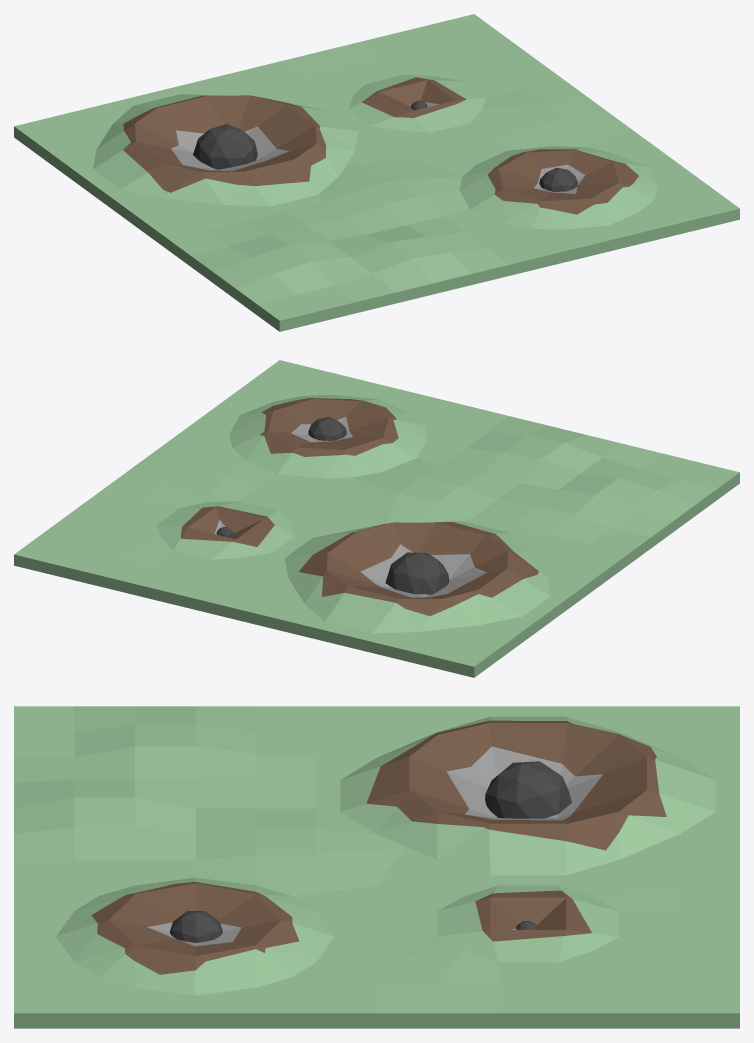
Rendered from Crater II.fbx.
The picture shows the model from 3 angles, top to bottom: view 1: azimuth 30°, elevation 25°; view 2: azimuth 150°, elevation 25°; view 3: azimuth 270°, elevation 25°; orthographic projection. The views are drawn at different scales.
Visible parts, largest first — view 1: Crater II; view 2: Crater II; view 3: Crater II.
Boxes of the visible parts, x1,y1,x2,y2 form: Crater II: (14,14,739,331); Crater II: (14,360,739,677); Crater II: (14,706,739,1028).
Bounding box in the file's own units: 1600 × 114 × 1600.
